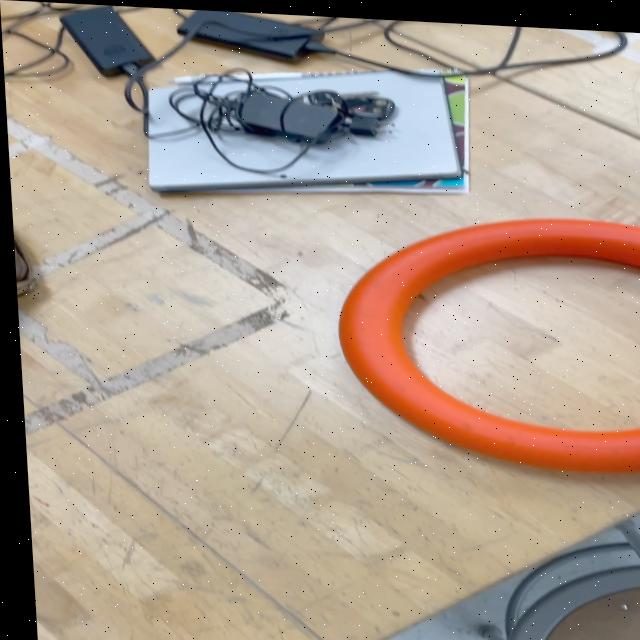note: (327, 201, 640, 471)
